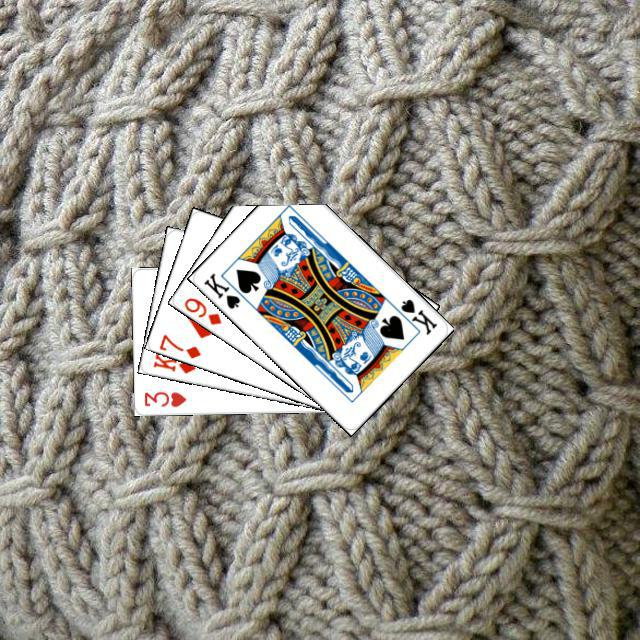3h: (139, 386, 188, 408)
7d: (155, 329, 203, 360)
9d: (179, 292, 223, 327)
Kd: (148, 348, 197, 375)
Ks: (388, 294, 439, 337), (199, 268, 242, 311)
